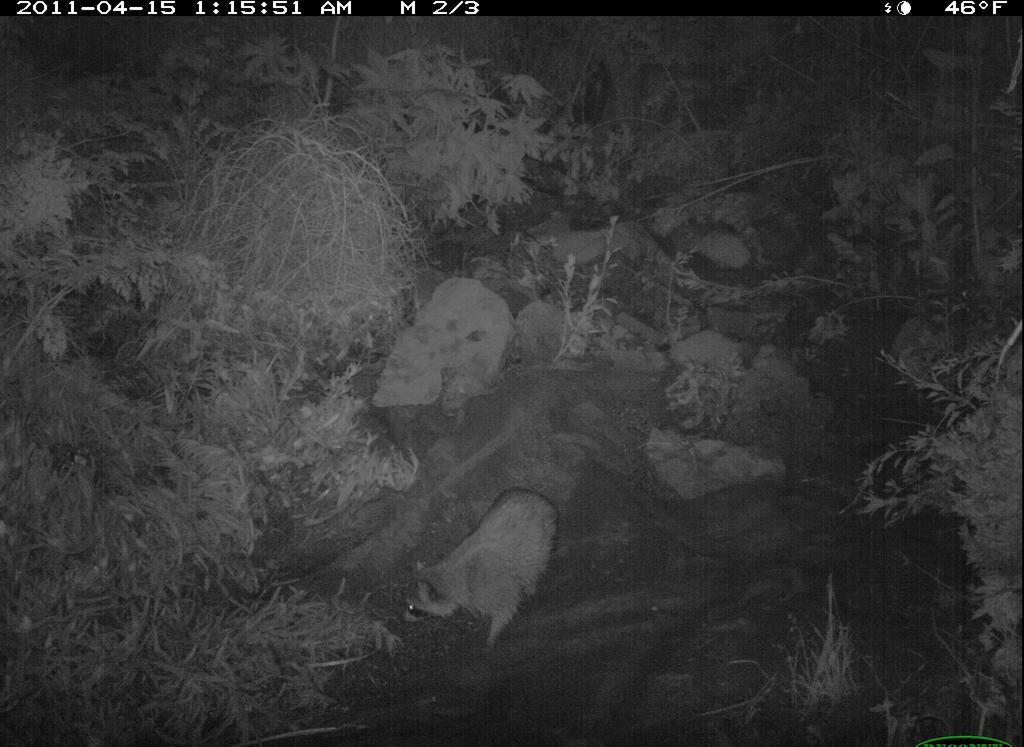raccoon: (402, 486, 565, 644)
